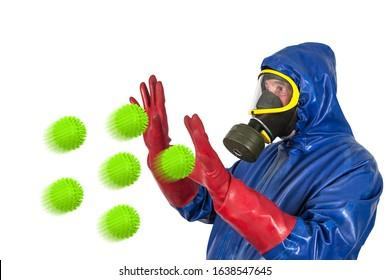gloves: (182, 114, 298, 255), (128, 74, 199, 206)
